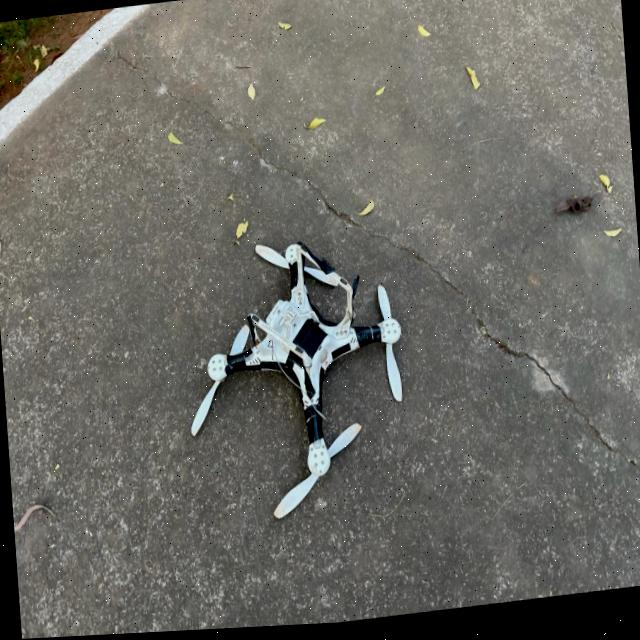drone: (117, 153, 481, 561)
